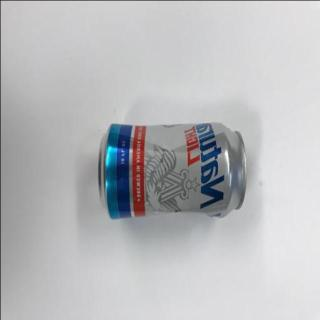Anorganik: (94, 116, 251, 228)
